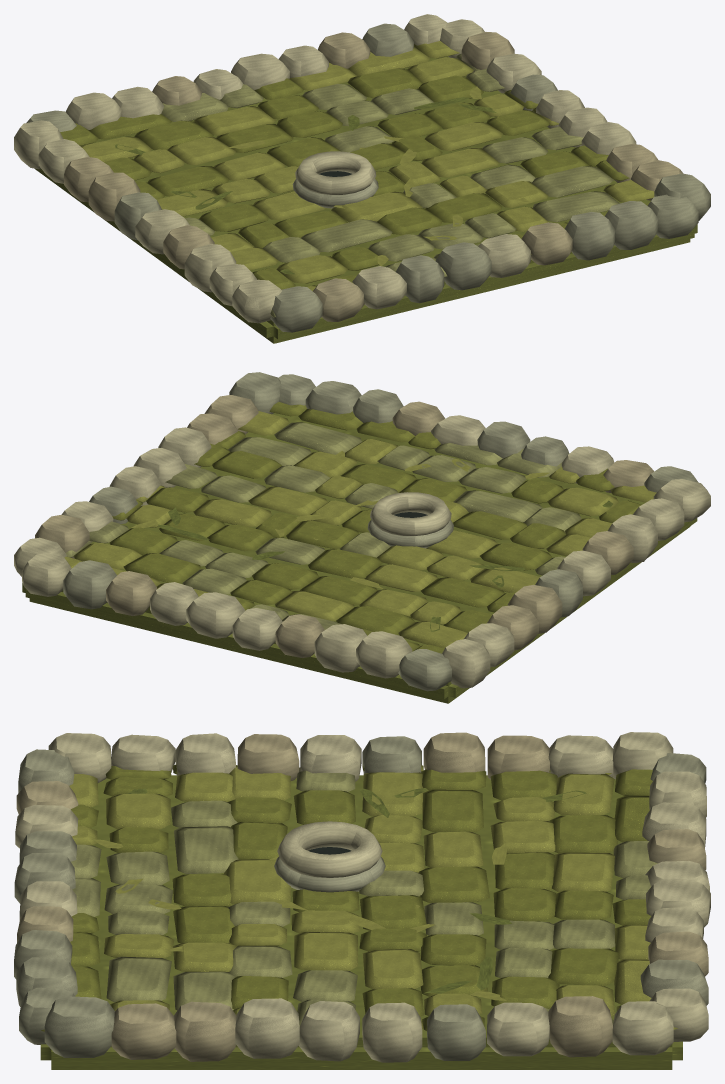
File: second-bowl-kitchen-roof.fbx
The picture shows the model from 3 angles, top to bottom: view 1: azimuth 30°, elevation 25°; view 2: azimuth 150°, elevation 25°; view 3: azimuth 270°, elevation 25°; orthographic projection. The views are drawn at different scales.
Parts seen in each view (by area): view 1: second-bowl-kitchen-roof__Geometry; view 2: second-bowl-kitchen-roof__Geometry; view 3: second-bowl-kitchen-roof__Geometry.
Boxes of the visible parts, box(x1,y1,x2,y2) form: second-bowl-kitchen-roof__Geometry: box(14, 14, 710, 343); second-bowl-kitchen-roof__Geometry: box(14, 372, 710, 703); second-bowl-kitchen-roof__Geometry: box(14, 732, 710, 1069).
Size of the model in its own units: 5.49 by 0.6409 by 5.49.
